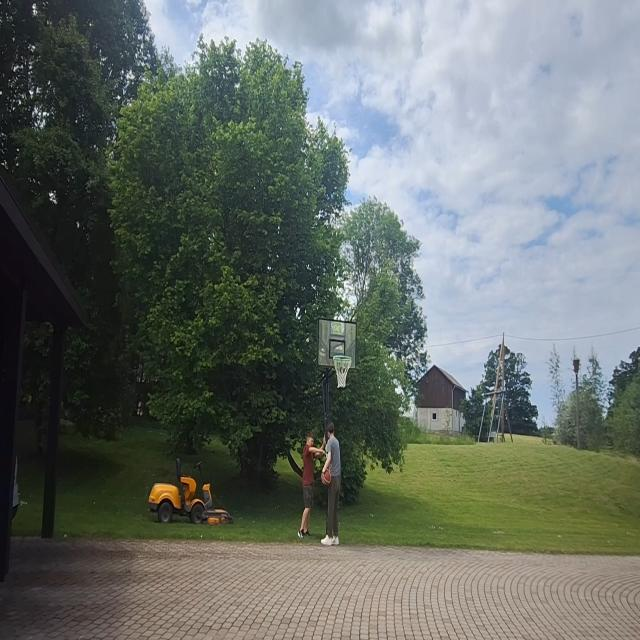ball: (322, 466, 331, 487)
basket: (333, 351, 352, 390)
player: (321, 420, 343, 549), (298, 427, 318, 538)
